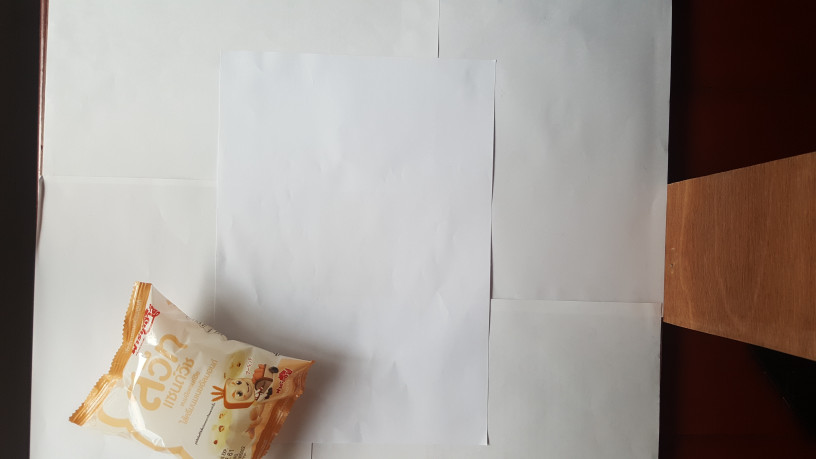farmhouse-sweetsandwich-almond: (59, 276, 327, 459)
